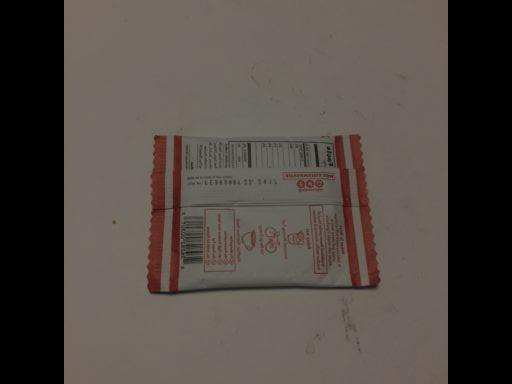trash: (147, 133, 383, 296)
